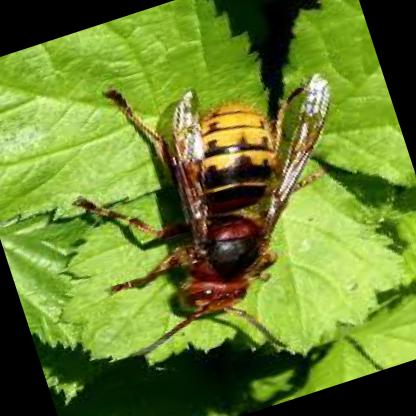european: (35, 57, 402, 373)
